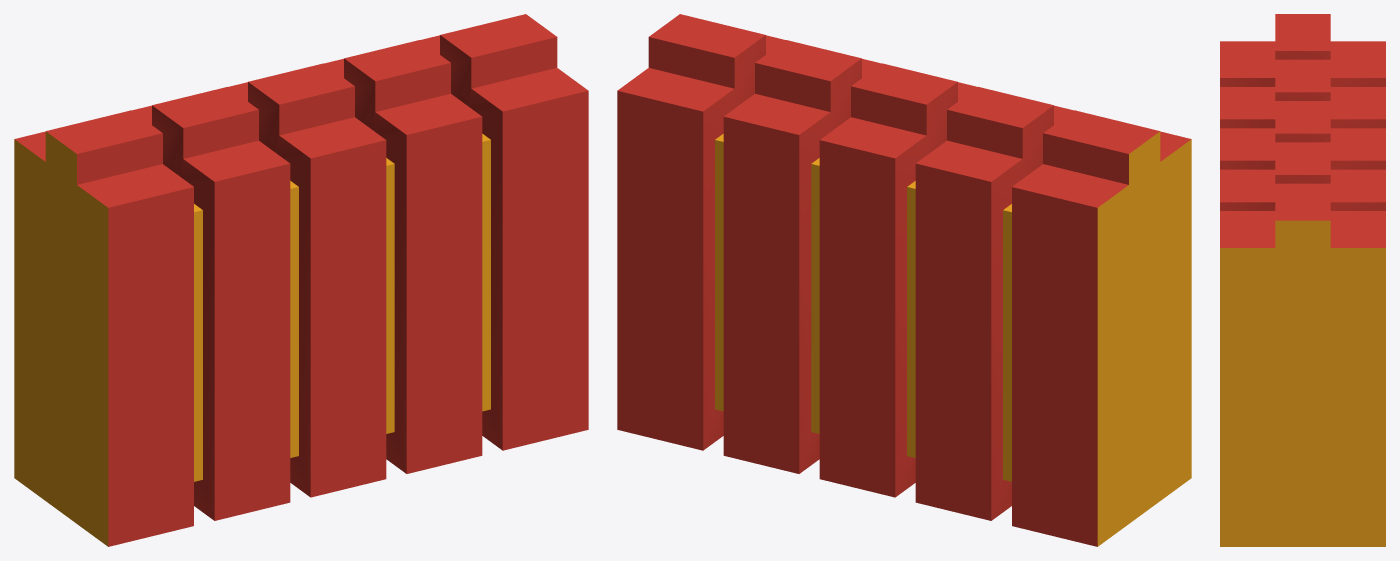
File: Barricade_Plastic_07.fbx
3 views of the same model, side by side, from view 1: azimuth 30°, elevation 25°; view 2: azimuth 150°, elevation 25°; view 3: azimuth 270°, elevation 25° (orthographic). The views are drawn at different scales.
Parts seen in each view (by area): view 1: Obstacle_Barricade_Plastic_07; view 2: Obstacle_Barricade_Plastic_07; view 3: Obstacle_Barricade_Plastic_07.
Part boxes in pixels (left/top/right/bottom): Obstacle_Barricade_Plastic_07: left=14, top=14, right=588, bottom=546; Obstacle_Barricade_Plastic_07: left=617, top=14, right=1191, bottom=546; Obstacle_Barricade_Plastic_07: left=1220, top=14, right=1385, bottom=546.
Bounding box in the file's own units: 101 × 74.66 × 34.38.
Materials: 1 (1 with a texture image).
